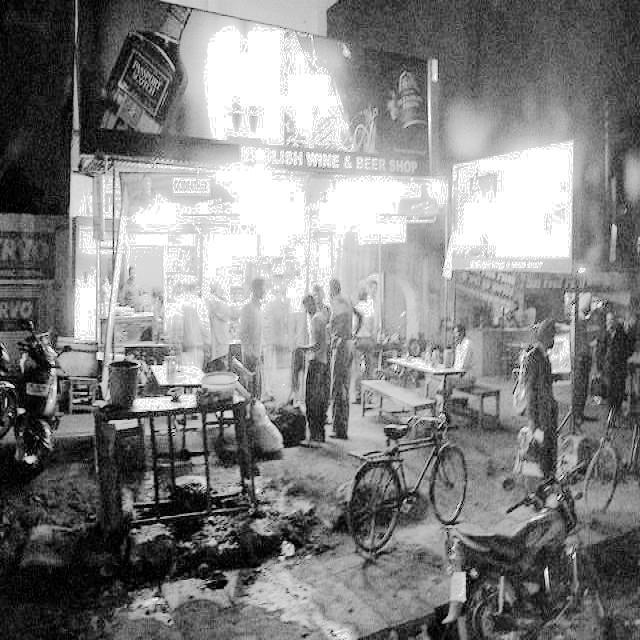Bicycle: (342, 396, 473, 560), (576, 396, 640, 520)
Motorcycle: (440, 497, 627, 639), (0, 328, 68, 510)
Person: (520, 286, 569, 484), (237, 265, 270, 407), (173, 270, 211, 386), (300, 271, 327, 433), (326, 266, 354, 408), (211, 265, 235, 367)
